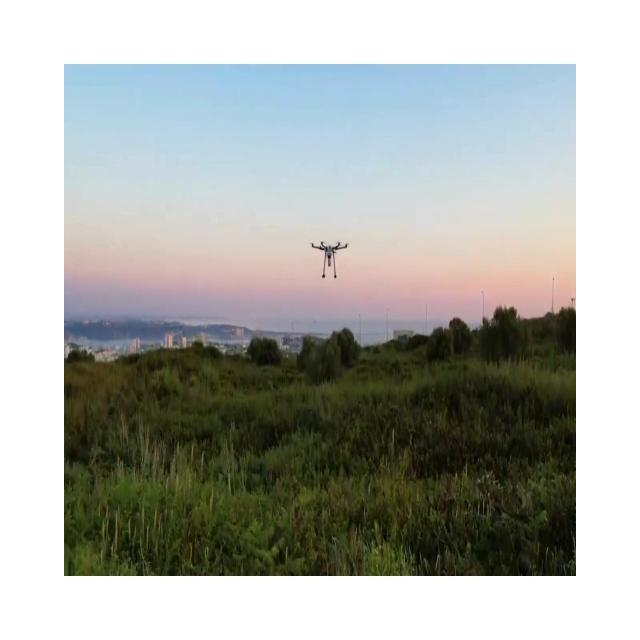drone: (310, 240, 348, 278)
